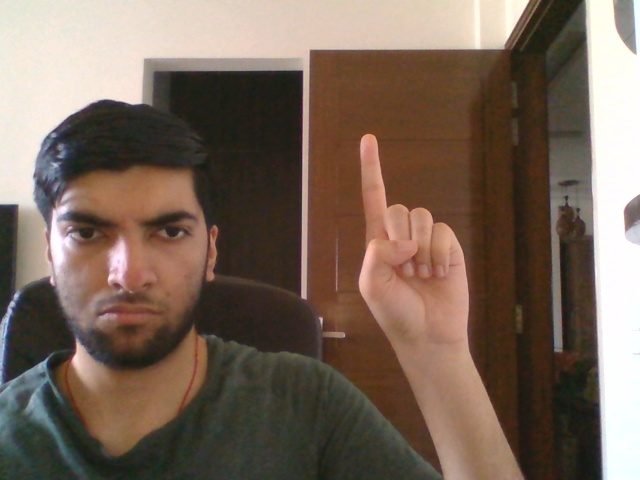LetterD: (357, 133, 470, 350)
